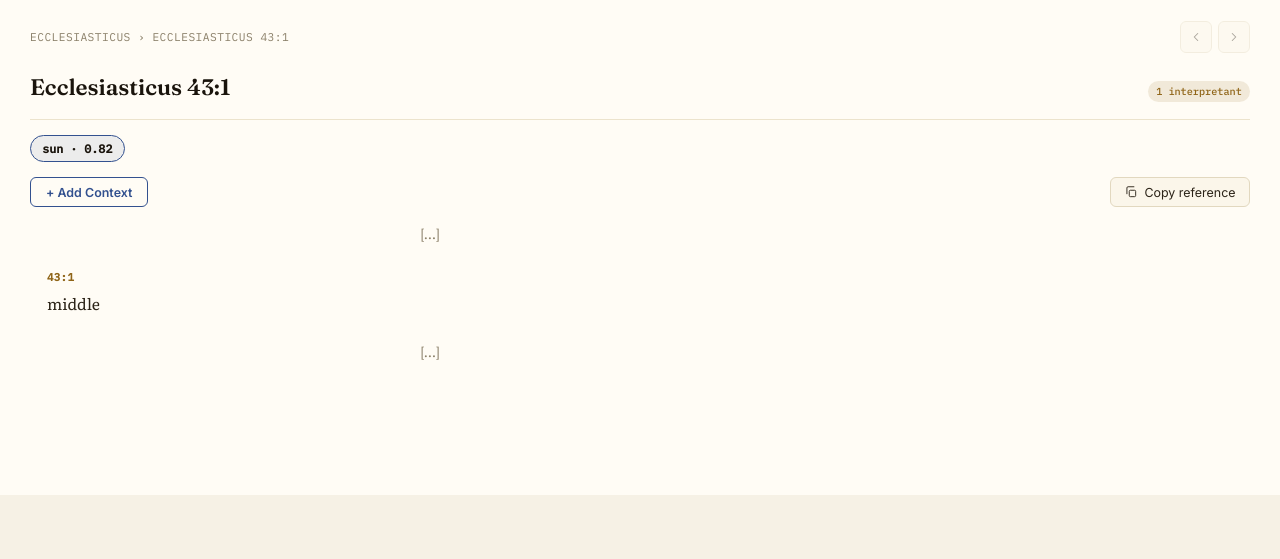
Test: Add Context › shows a distinct error and leaves the hotspot displayed when the context request fails
This screenshot has width=1280, height=559.
Click the button "+ Add Context" at (89, 192), box [30,177,148,208]
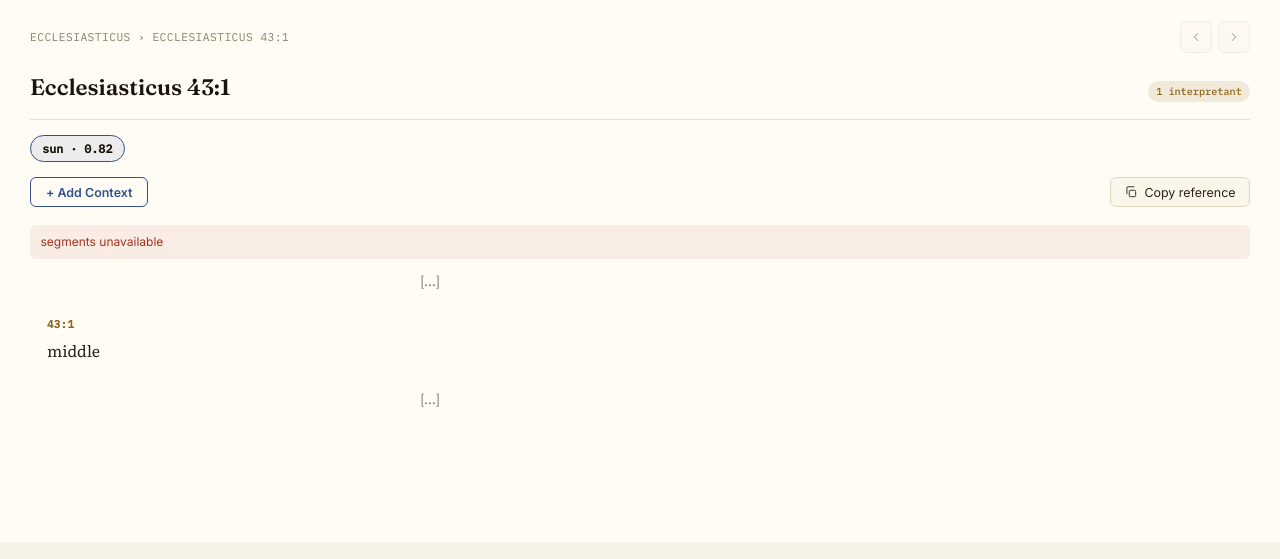
Expected: the text "middle" is shown, [47,338,100,362]
Now the text "segments unavailable" is shown, box [30,226,1250,259]
